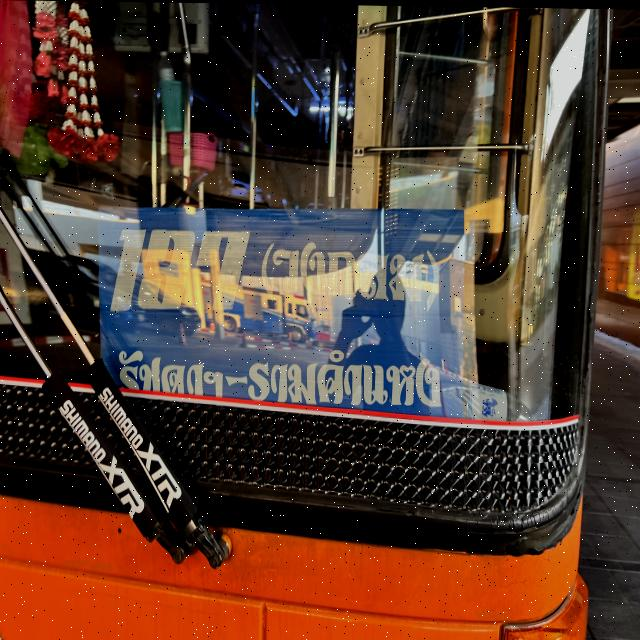Destination Sign: (100, 205, 465, 415)
